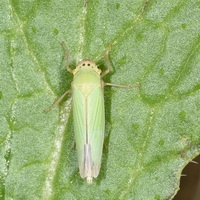insect: (52, 42, 139, 183)
